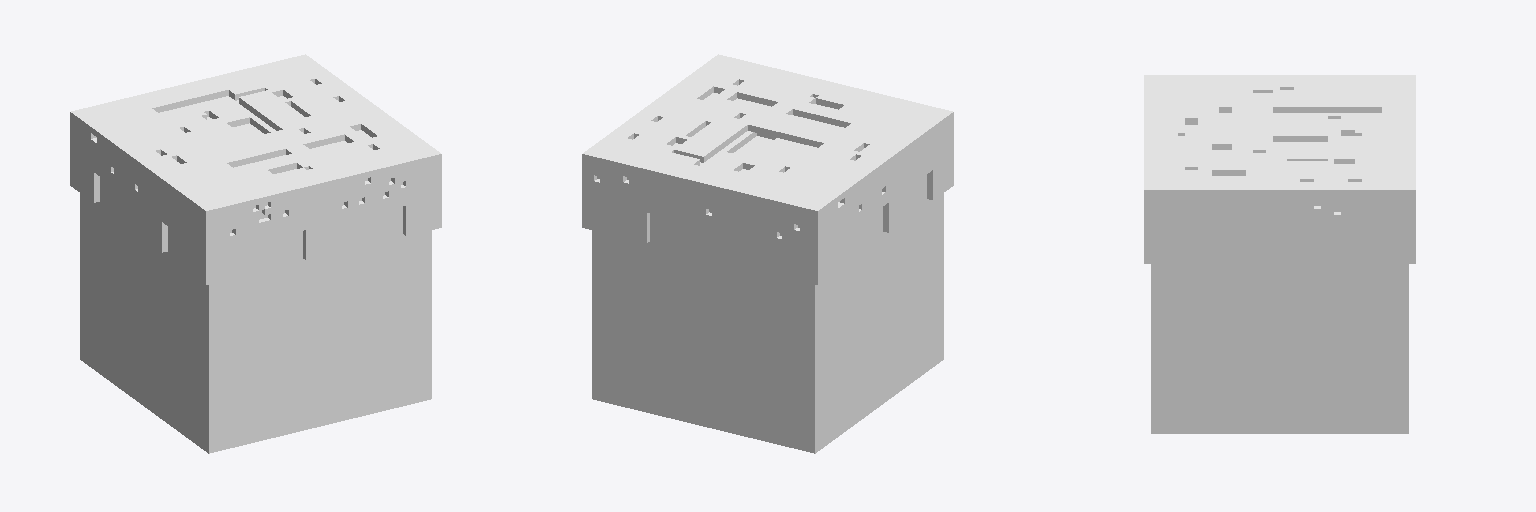
The model's file is tile_base_top_5.obj.
The picture shows the model from 3 angles: view 1: azimuth 30°, elevation 25°; view 2: azimuth 150°, elevation 25°; view 3: azimuth 270°, elevation 25°; orthographic projection.
Visible parts, largest first — view 1: tile_base_top_5; view 2: tile_base_top_5; view 3: tile_base_top_5.
Part boxes in pixels (x1,y1,x2,y2): tile_base_top_5: (70,54,441,453); tile_base_top_5: (582,54,953,453); tile_base_top_5: (1144,75,1415,433).
Bounding box in the file's own units: 40 × 40 × 40.